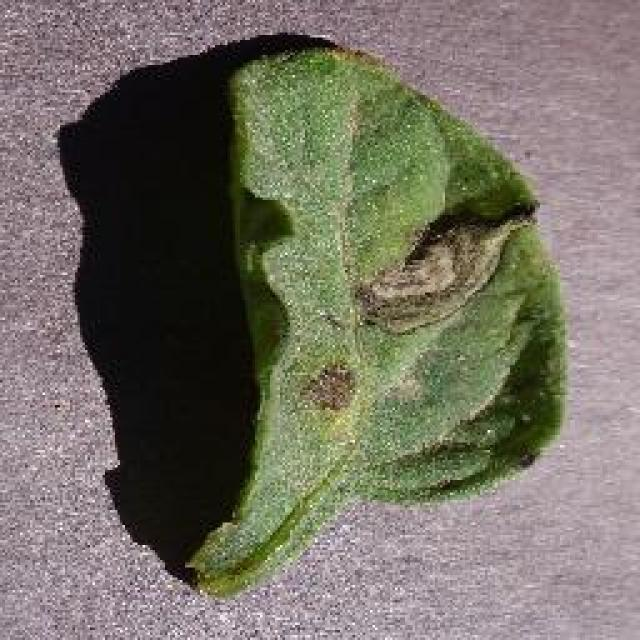leaf blight: (188, 45, 568, 603)
